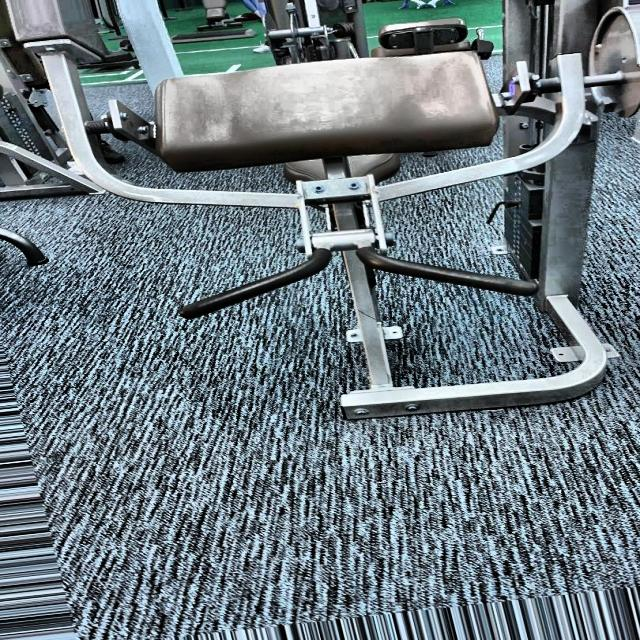bicep_curl_machine: (92, 0, 616, 390)
